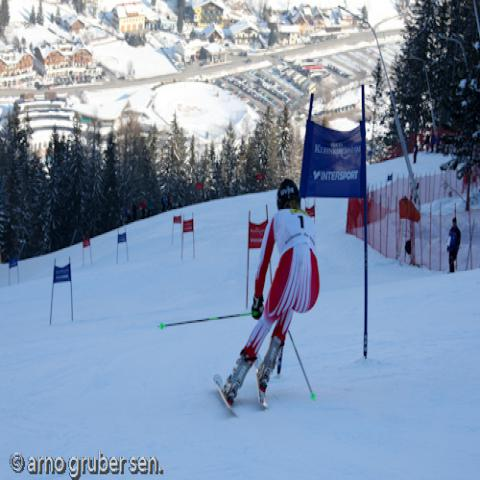car: (296, 74, 307, 88), (286, 71, 296, 81), (229, 75, 238, 84), (247, 86, 256, 94), (256, 110, 263, 116), (289, 95, 292, 100), (277, 104, 280, 107)
